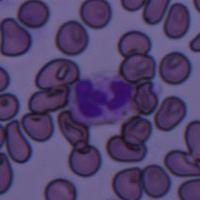N: (66, 72, 136, 125)
